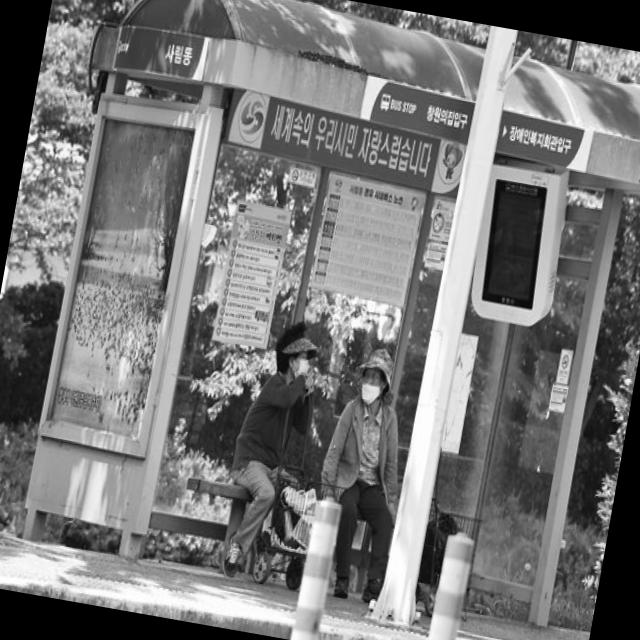person: (216, 300, 350, 594), (314, 322, 432, 604)
